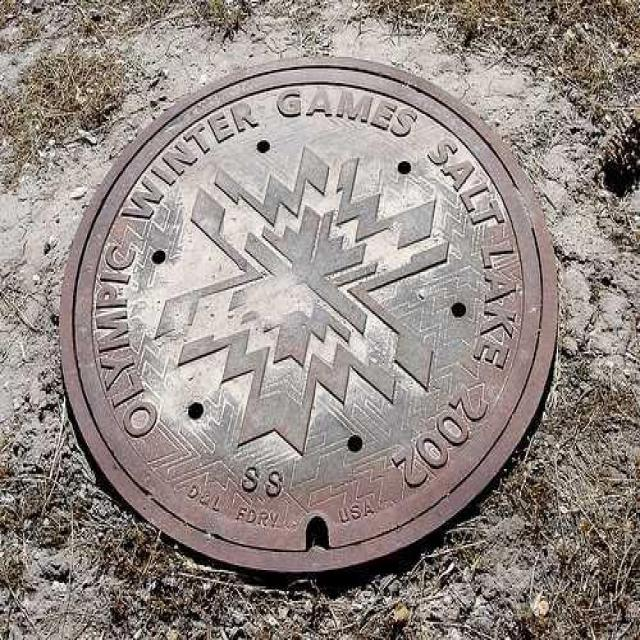manhole: (60, 60, 555, 572)
